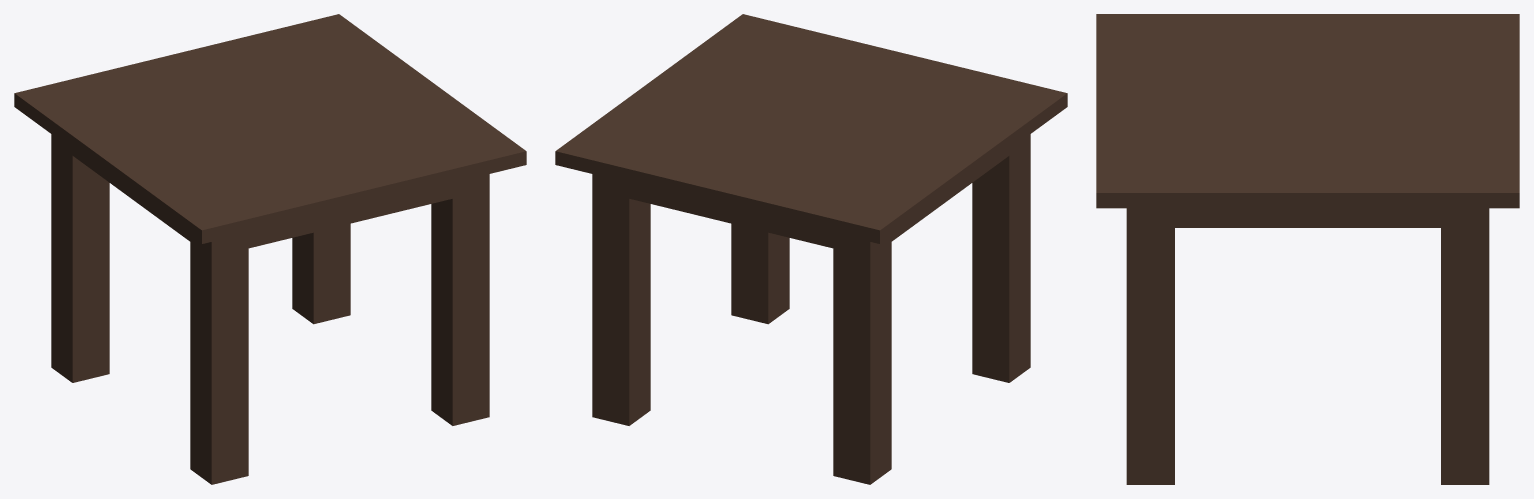
File: S_SquareTable.002.fbx
The picture shows the model from 3 angles, left to right: view 1: azimuth 30°, elevation 25°; view 2: azimuth 150°, elevation 25°; view 3: azimuth 270°, elevation 25°; orthographic projection. The views are drawn at different scales.
Visible parts, largest first — view 1: S_SquareTable.002; view 2: S_SquareTable.002; view 3: S_SquareTable.002.
Part boxes in pixels (box(x1,y1,x2,y2)): S_SquareTable.002: box(14, 14, 526, 484); S_SquareTable.002: box(555, 14, 1067, 484); S_SquareTable.002: box(1096, 14, 1519, 484).
Bounding box in the file's own units: 117 × 92.83 × 117.
